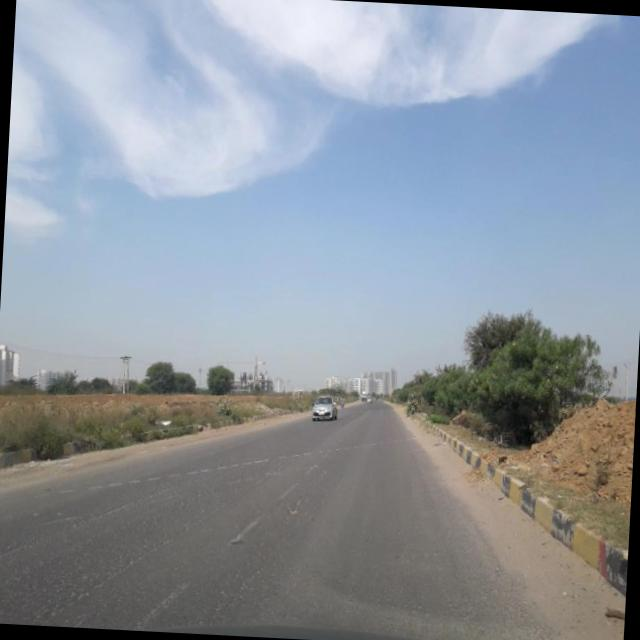crack: (0, 468, 252, 632), (45, 480, 236, 633), (0, 472, 181, 594)
